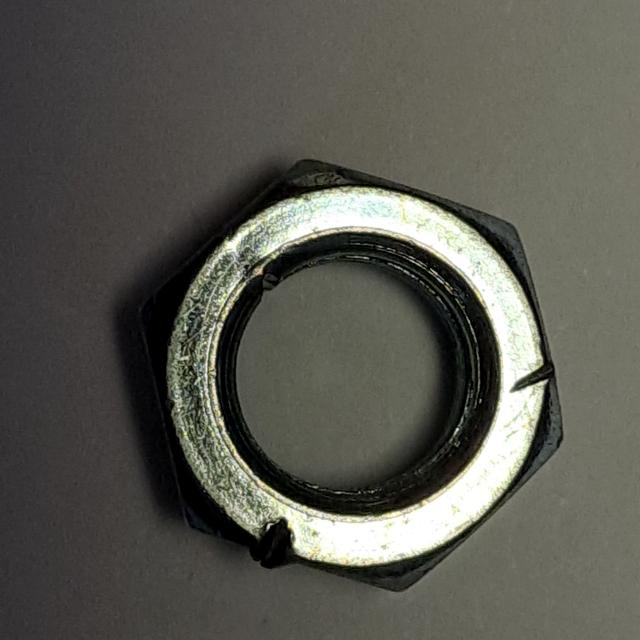Scratches: (128, 145, 576, 606)
